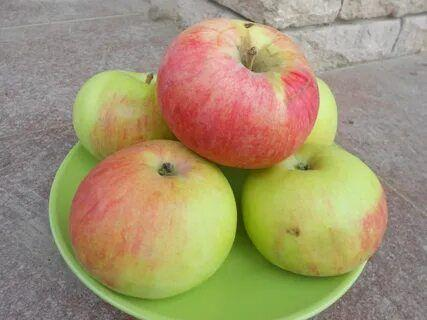Apple: (69, 140, 237, 300), (156, 15, 319, 172)
